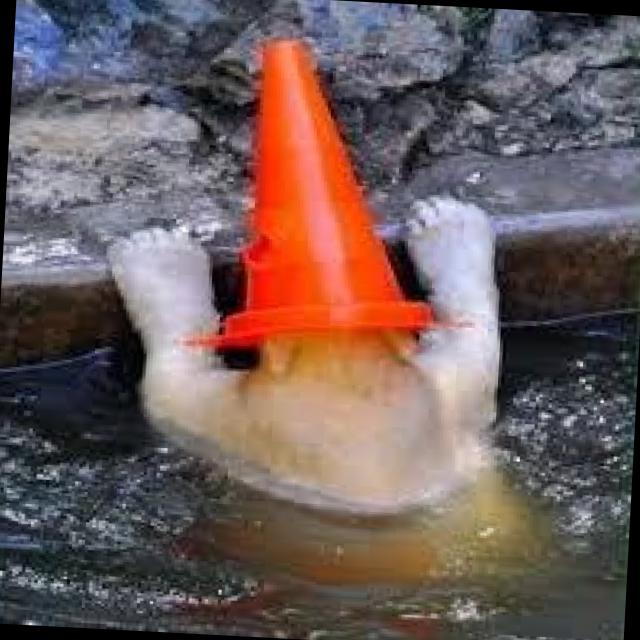Cono de seguridad: (182, 33, 435, 360)
